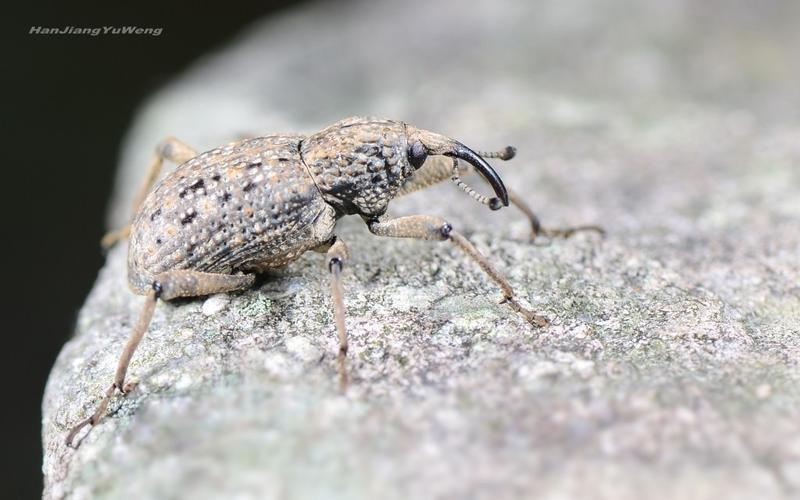Curculionidae: (65, 113, 606, 449)
